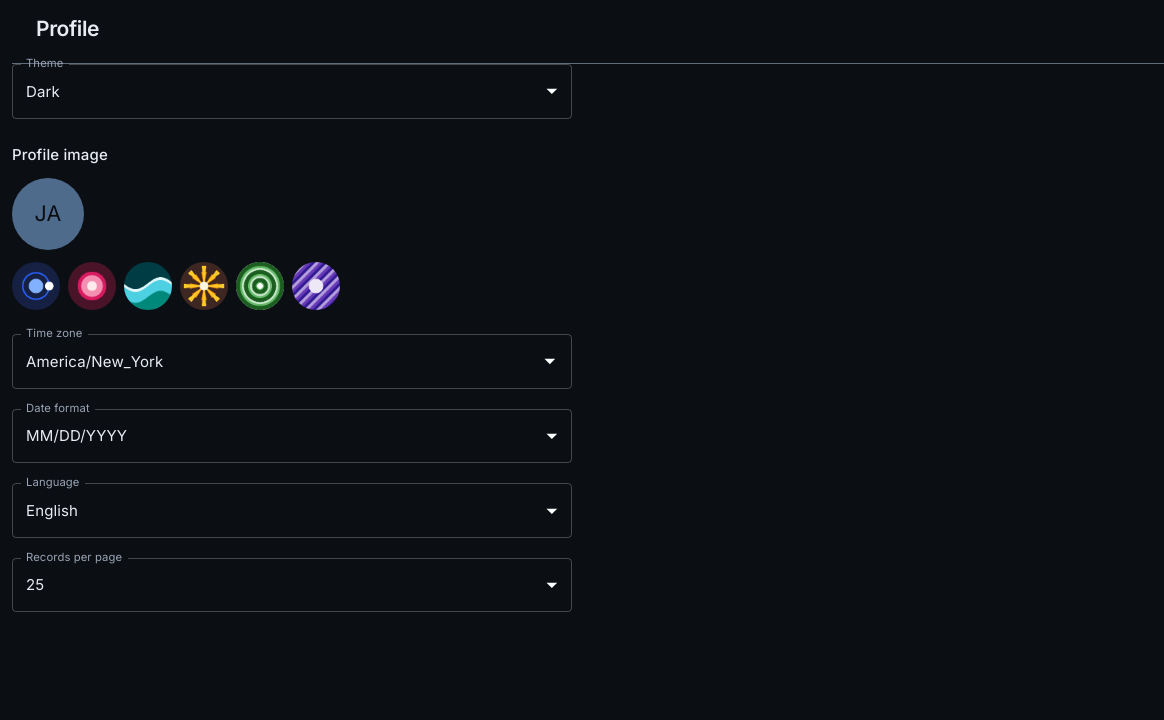
Test: Profile screen (M0006-03-R006) › AC03, AC04: chooses a default image; upload shows only with storage
Click the radio button named "Default image wave": (148, 286) [124,262,172,310]
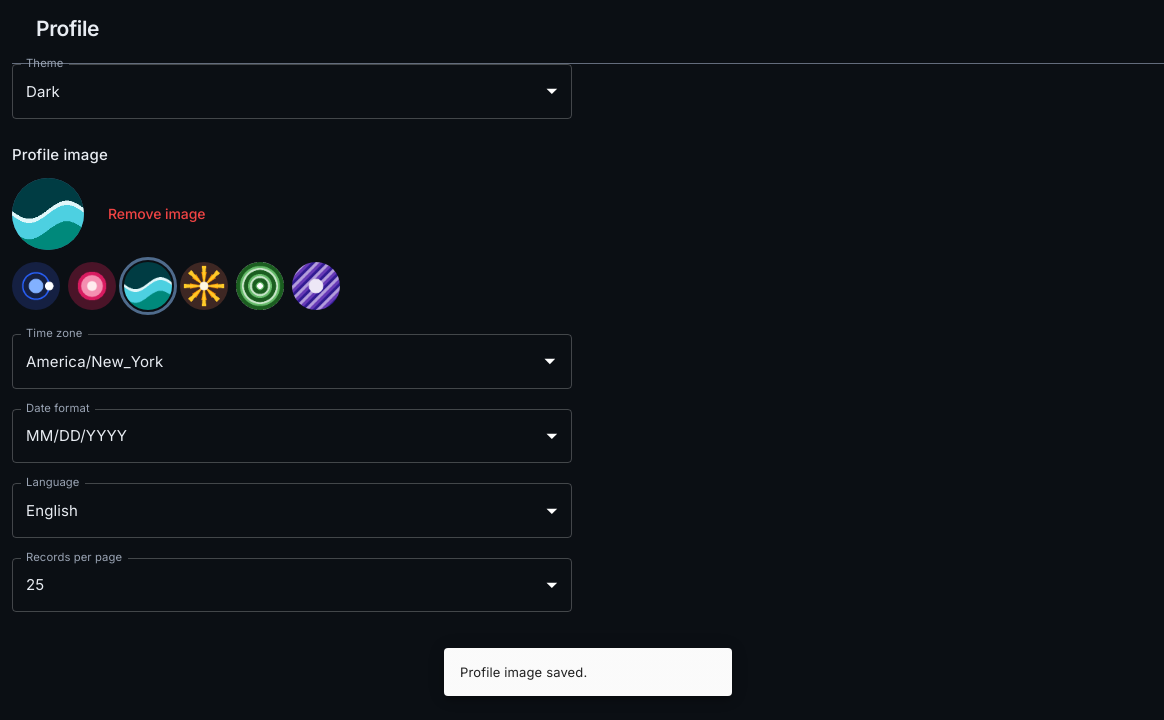
Expected: the button "Remove image" is shown, [100,196,213,232]
